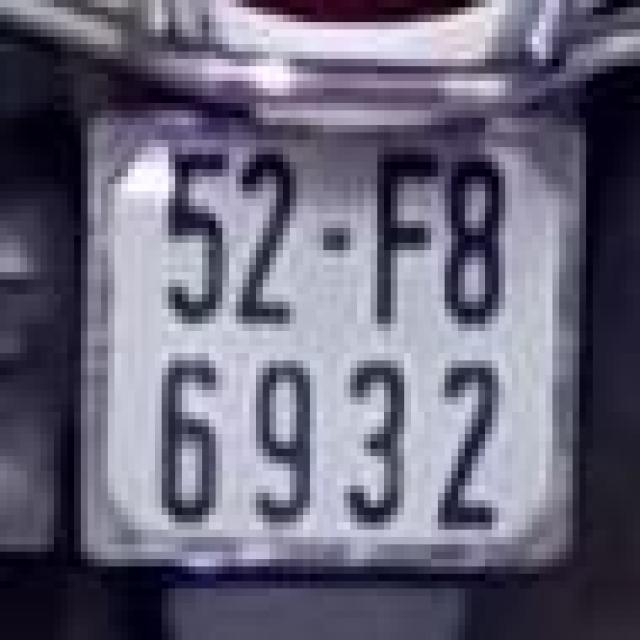2: (431, 353, 526, 544), (232, 132, 306, 331)
3: (327, 342, 414, 548)
5: (155, 132, 236, 331)
6: (148, 349, 229, 526)
8: (441, 136, 529, 335)
9: (246, 346, 320, 530)
F: (357, 125, 458, 331)
